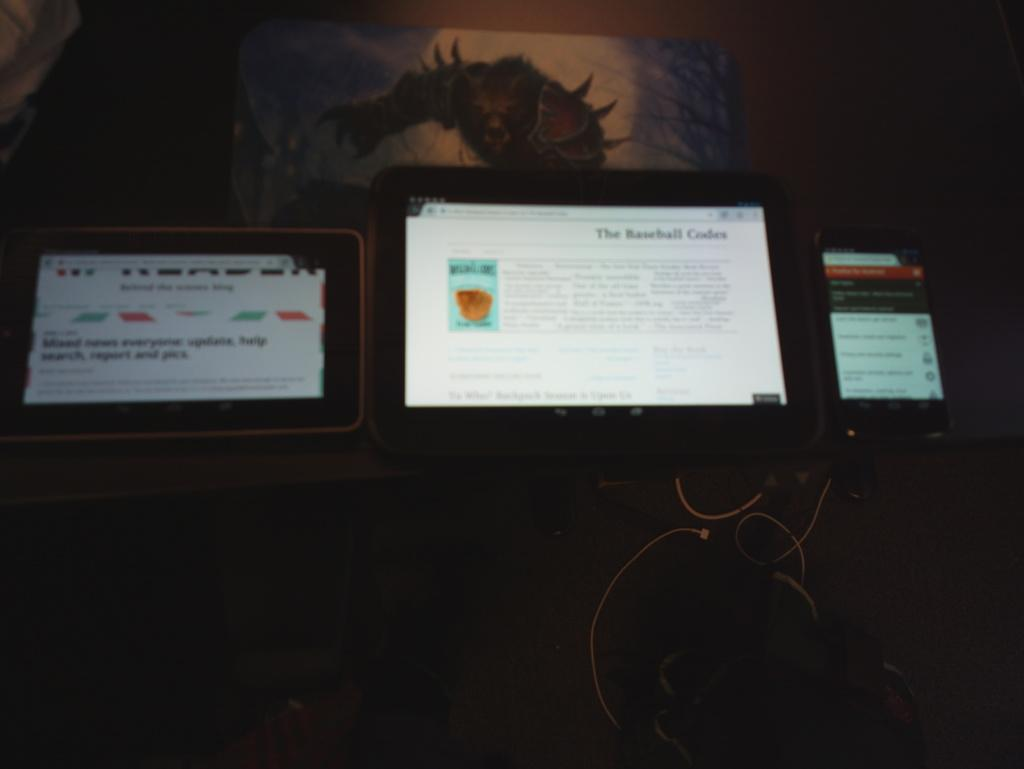Computer-monitor: (363, 161, 823, 464)
